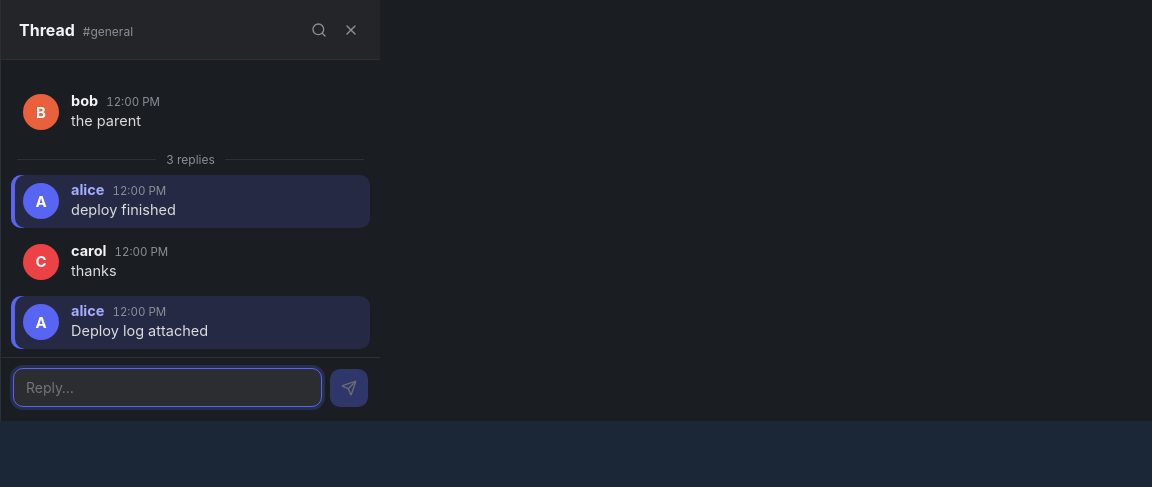
Test case: search in a thread › Escape closes the search and brings every reply back
The width and height of the screenshot is (1152, 487).
Step 1. Click the button named "Search in thread" → click(319, 30), box [304, 14, 334, 44]
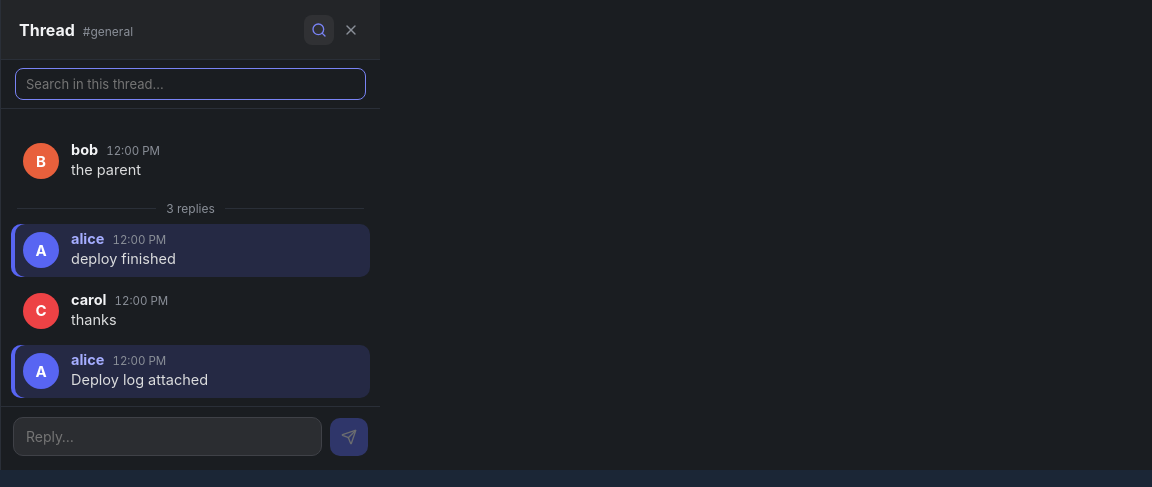
Step 2. Type "deploy" into the search field with placeholder "Search in this thread…" → (190, 84), box [15, 68, 366, 100]
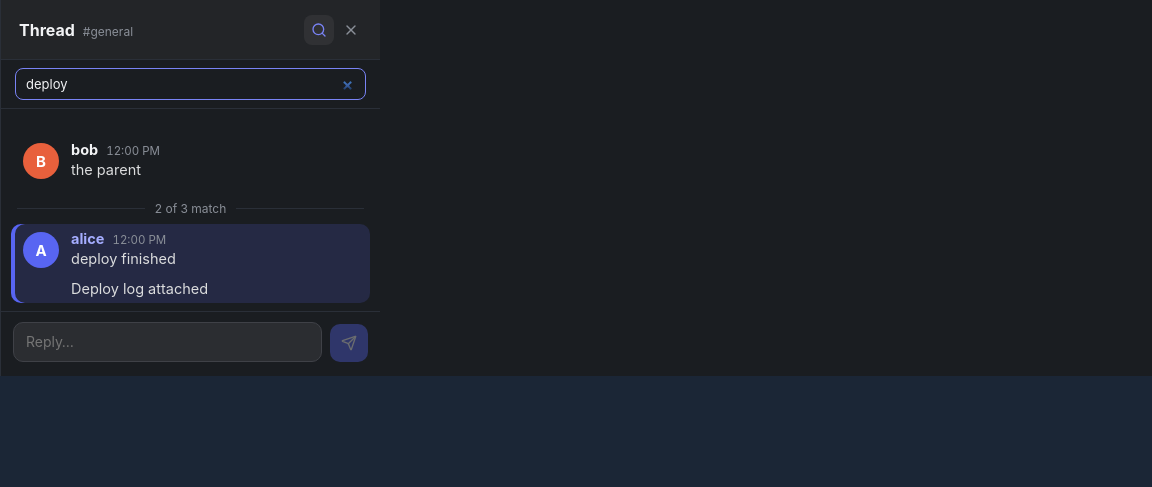
Step 3. Press Escape in the search field with placeholder "Search in this thread…", box [15, 68, 366, 100]
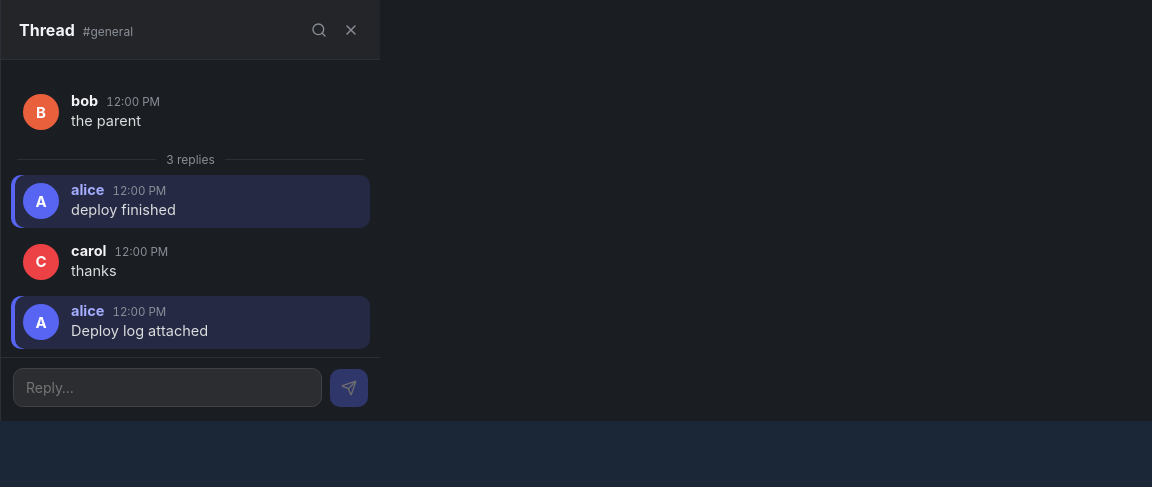
Check: the field with placeholder "search in this thread" is not shown
Check: the text "thanks" is shown, box [71, 262, 117, 279]
Check: the text "3 replies" is shown, box [166, 152, 215, 168]
